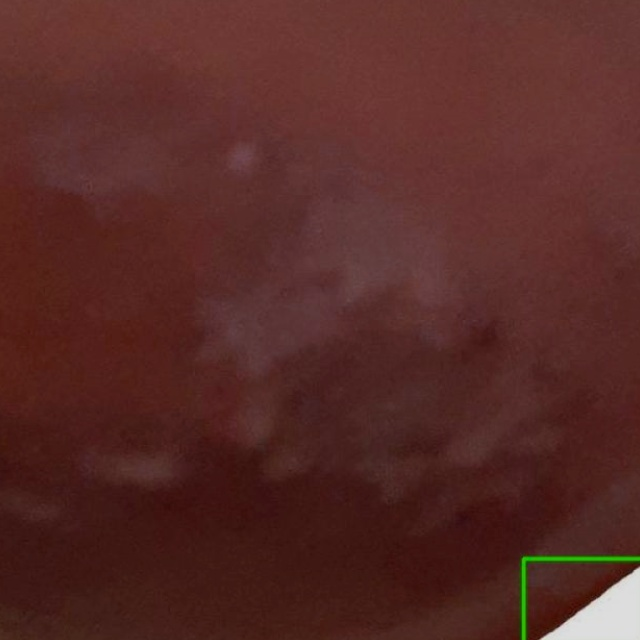Eczema: (523, 558, 639, 639)
